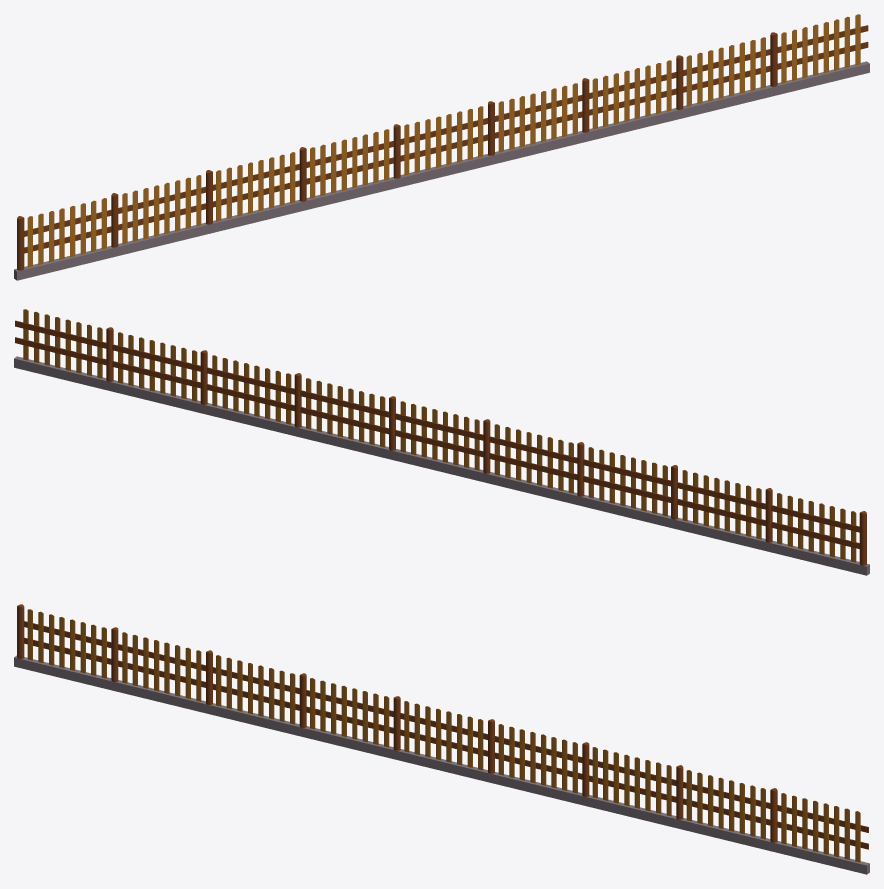
The model's file is fence2.fbx.
3 renders of one model, top to bottom at view 1: azimuth 30°, elevation 25°; view 2: azimuth 150°, elevation 25°; view 3: azimuth 330°, elevation 25°, orthographic.
Visible parts, largest first — view 1: 立方体.023; view 2: 立方体.023; view 3: 立方体.023.
Part boxes in pixels (box(x1,y1,x2,y2)): 立方体.023: box(14, 14, 869, 280); 立方体.023: box(14, 309, 869, 575); 立方体.023: box(14, 604, 869, 874).
Bounding box in the file's own units: 1614 × 111 × 10.05.
